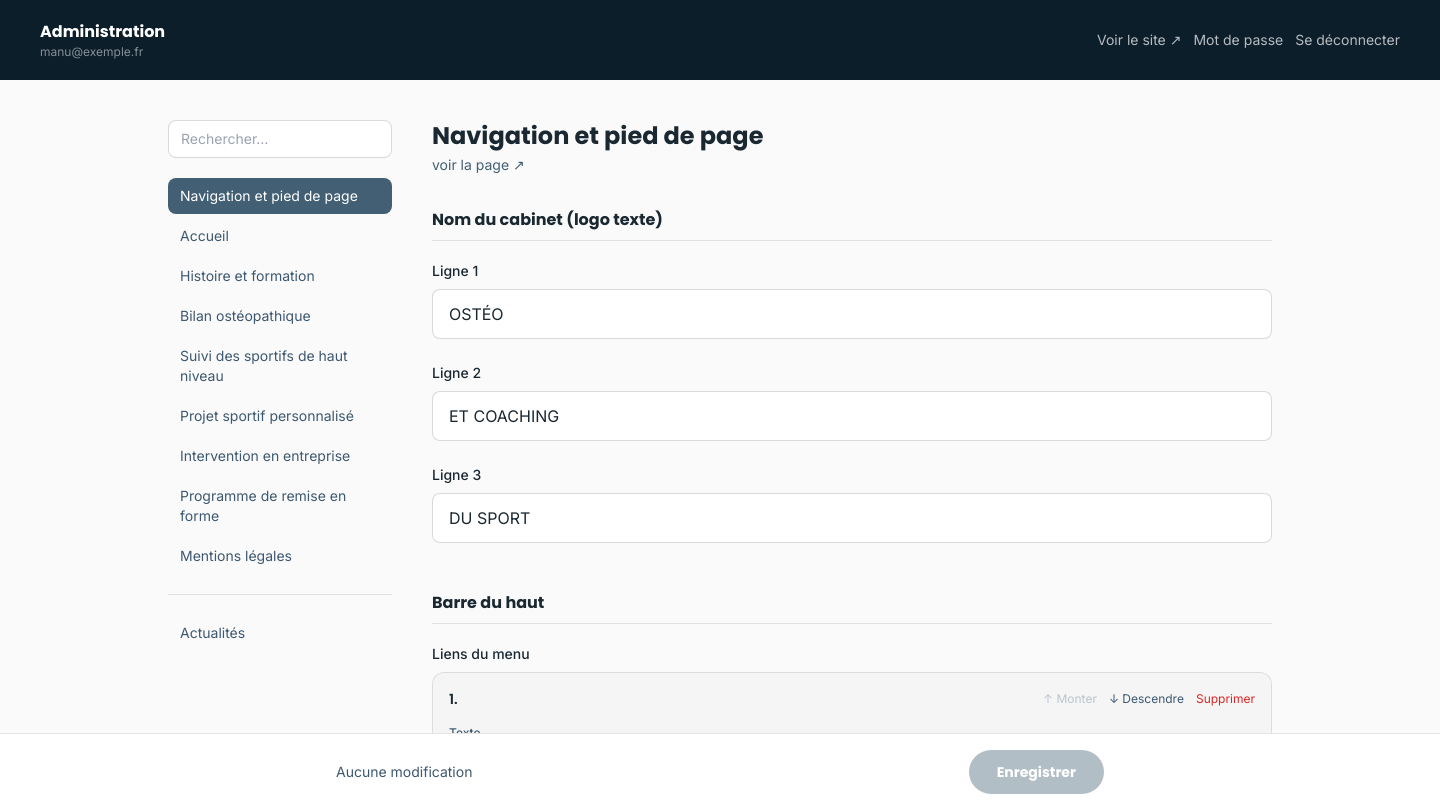
Scenario: connecté, « Mot de passe » ouvre le formulaire par-dessus l’éditeur, annulable
This screenshot has width=1440, height=810.
Click the button "Mot de passe" at (1238, 40), box [1194,30,1283,50]
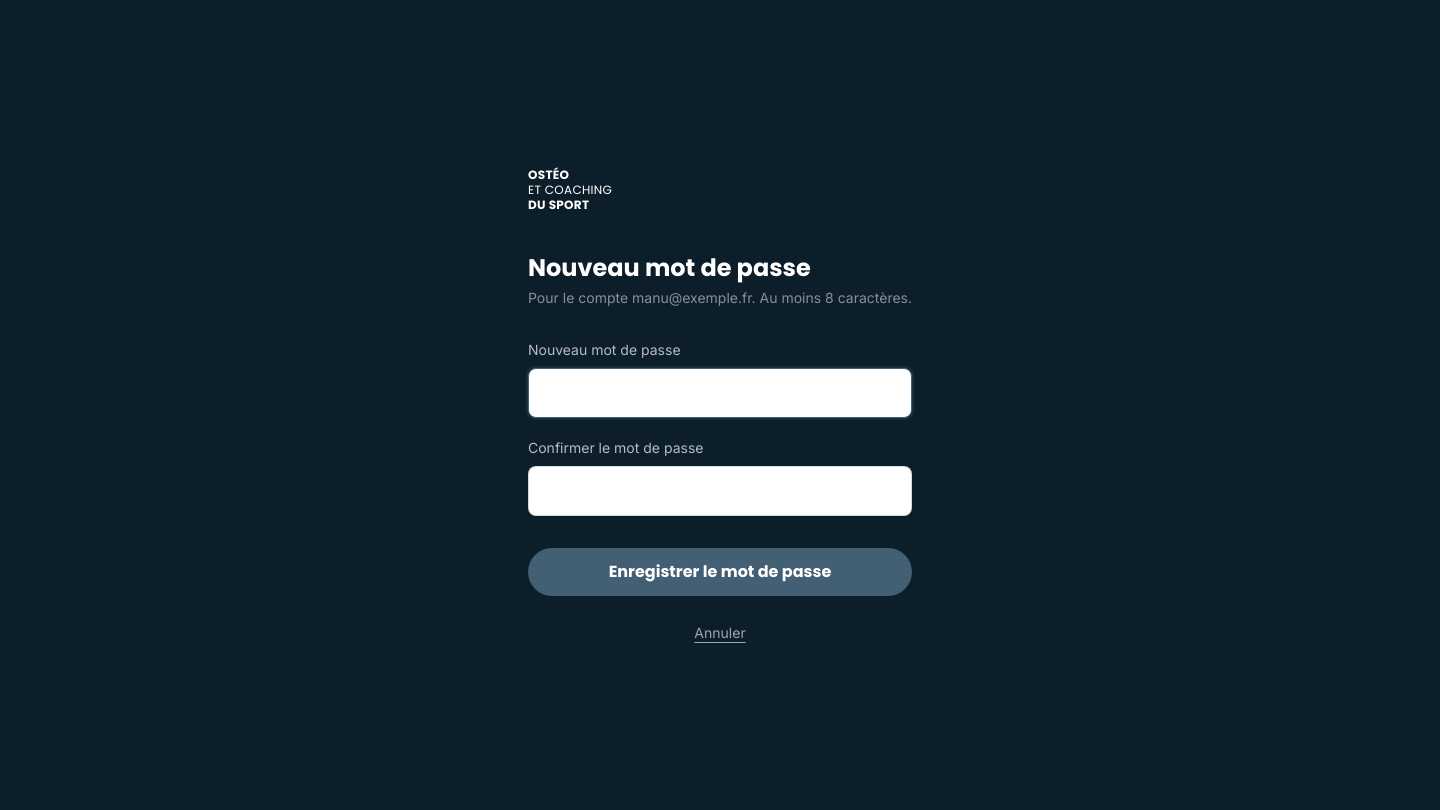
Result: the dialog is shown
Click the button "Annuler" at (720, 632), box [694,622,746,642]
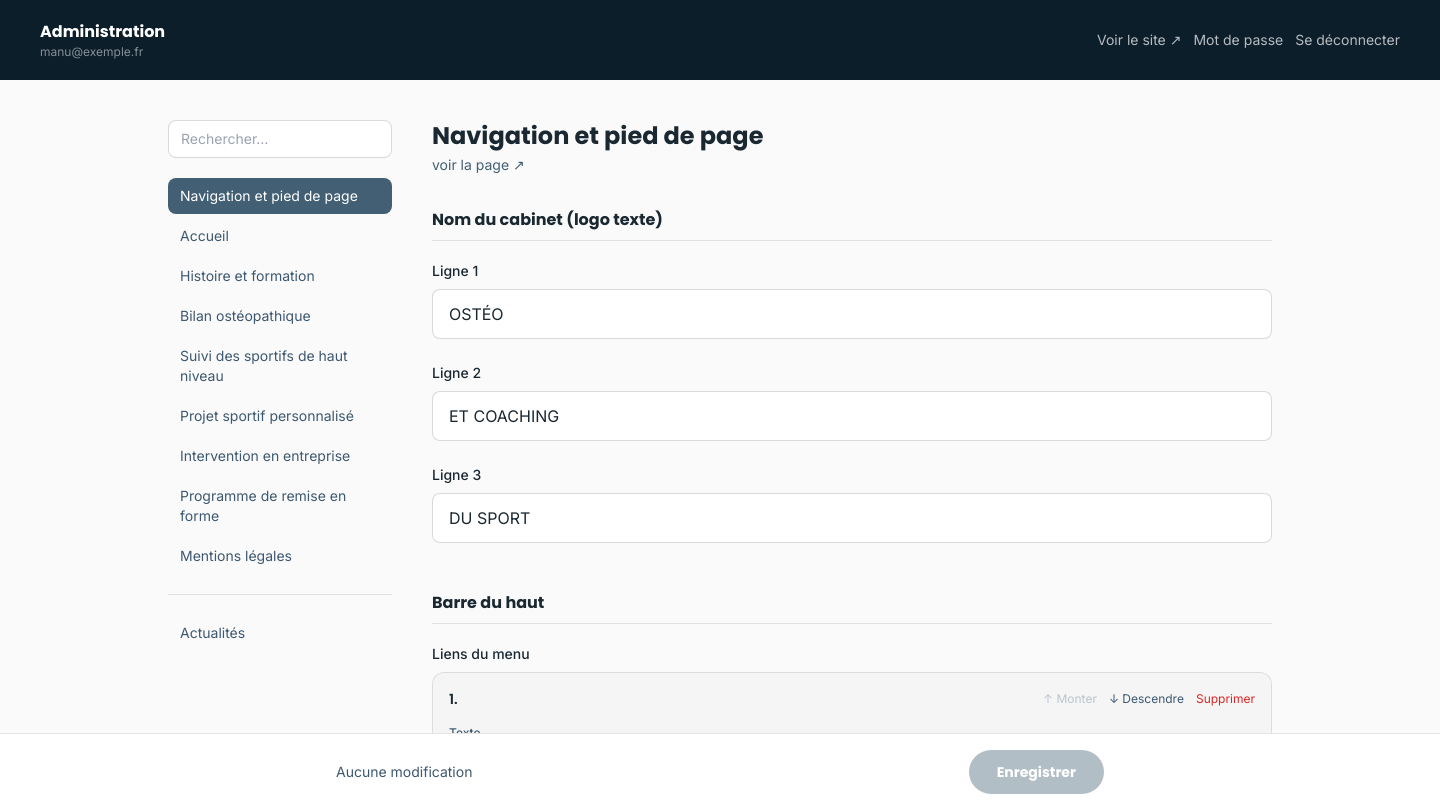
Result: the dialog is gone
